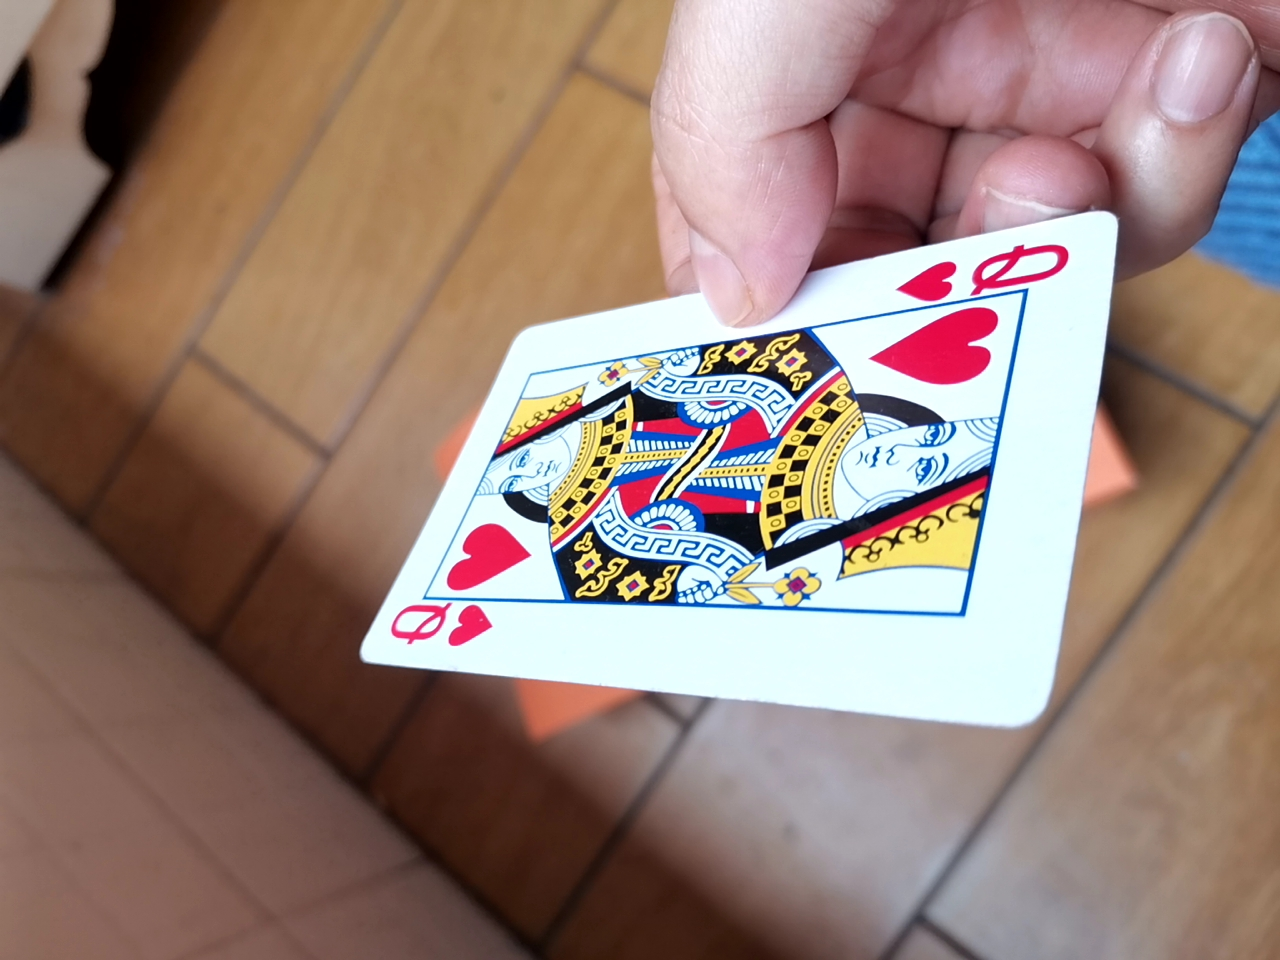hx q: (345, 237, 1118, 735)
